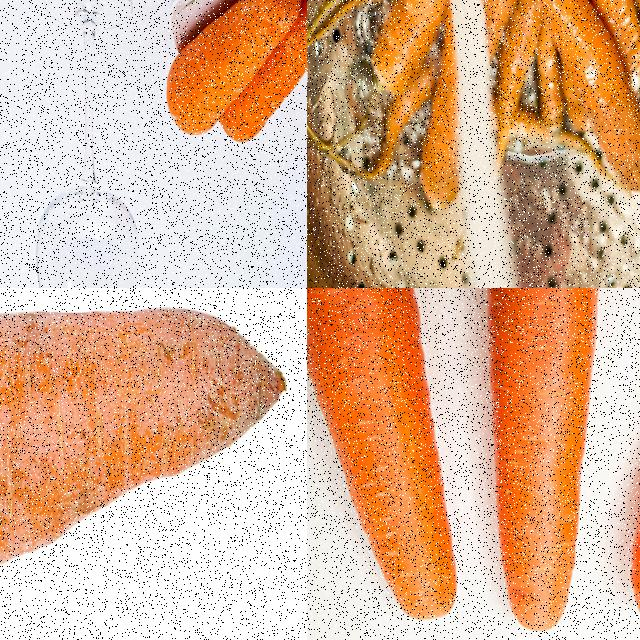carrot: (0, 288, 293, 639), (307, 0, 639, 258), (307, 288, 463, 625), (480, 288, 606, 635), (162, 0, 300, 137), (217, 0, 306, 146)
